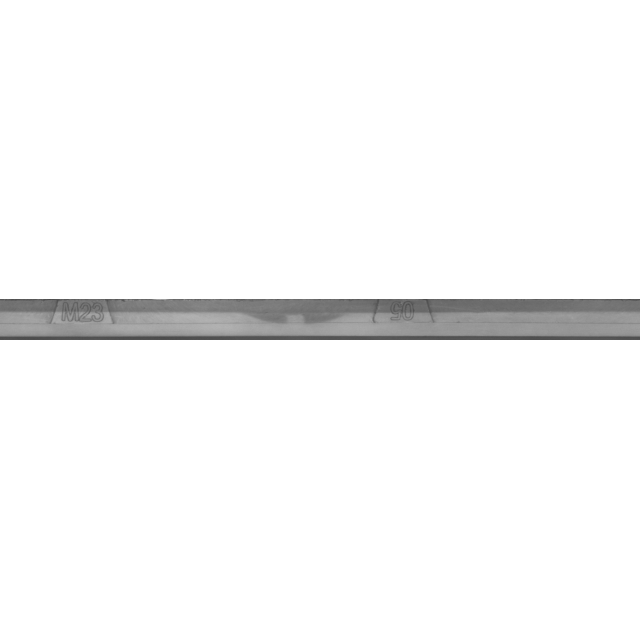mohao: (0, 270, 180, 370)
xuehao: (302, 270, 502, 370)
